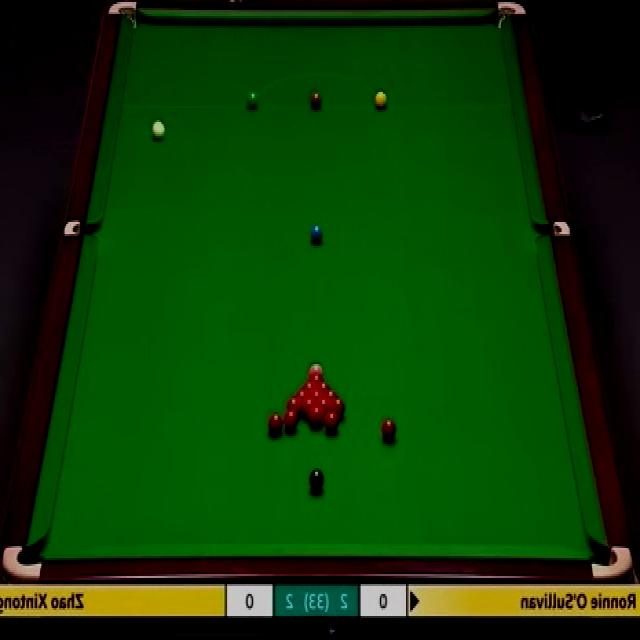black-ball: (310, 467, 326, 491)
blue-ball: (310, 225, 324, 242)
brown-ball: (310, 90, 322, 111)
green-ball: (245, 88, 260, 110)
pink-ball: (308, 364, 323, 378)
red-ball: (324, 410, 342, 433), (269, 410, 283, 437), (381, 417, 397, 440), (282, 410, 298, 432), (309, 405, 324, 427), (288, 397, 303, 418), (332, 397, 345, 419), (302, 398, 315, 419), (325, 389, 336, 401), (311, 390, 322, 402), (312, 375, 322, 387)
white-ball: (151, 118, 165, 140)
yellow-ball: (375, 90, 387, 110)
